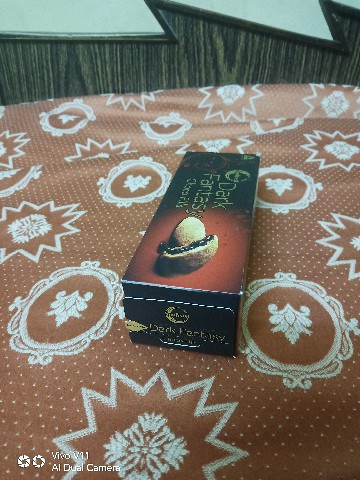darkfantasy big: (115, 134, 274, 362)
